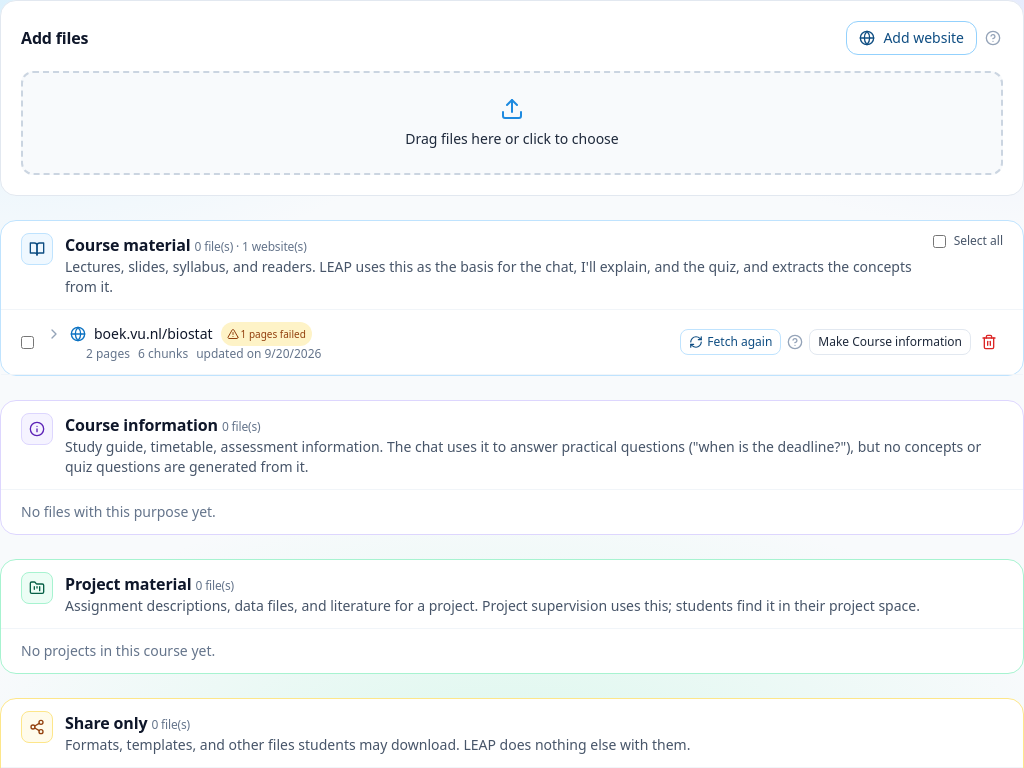
FilesStep — websites als één bron › toont een website als één rij en niet elke pagina los
The image size is (1024, 768).
Expected: the element with test id "badge-web-problems-s1" is shown, left=221, top=322, right=312, bottom=346
// Openklappen toont de pagina's.
Click the button with test id "button-toggle-web-source-s1" at [153, 334], box left=46, top=322, right=668, bottom=362
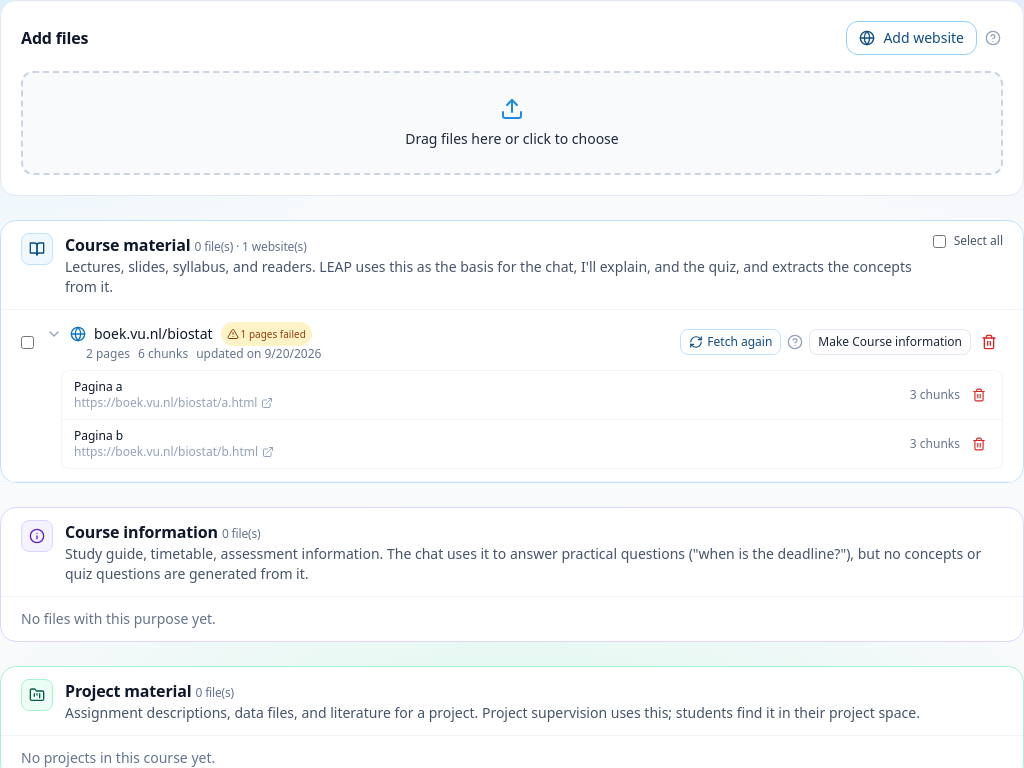
Now the list with test id "list-web-pages-s1" shows "Pagina a", box left=74, top=378, right=122, bottom=395
